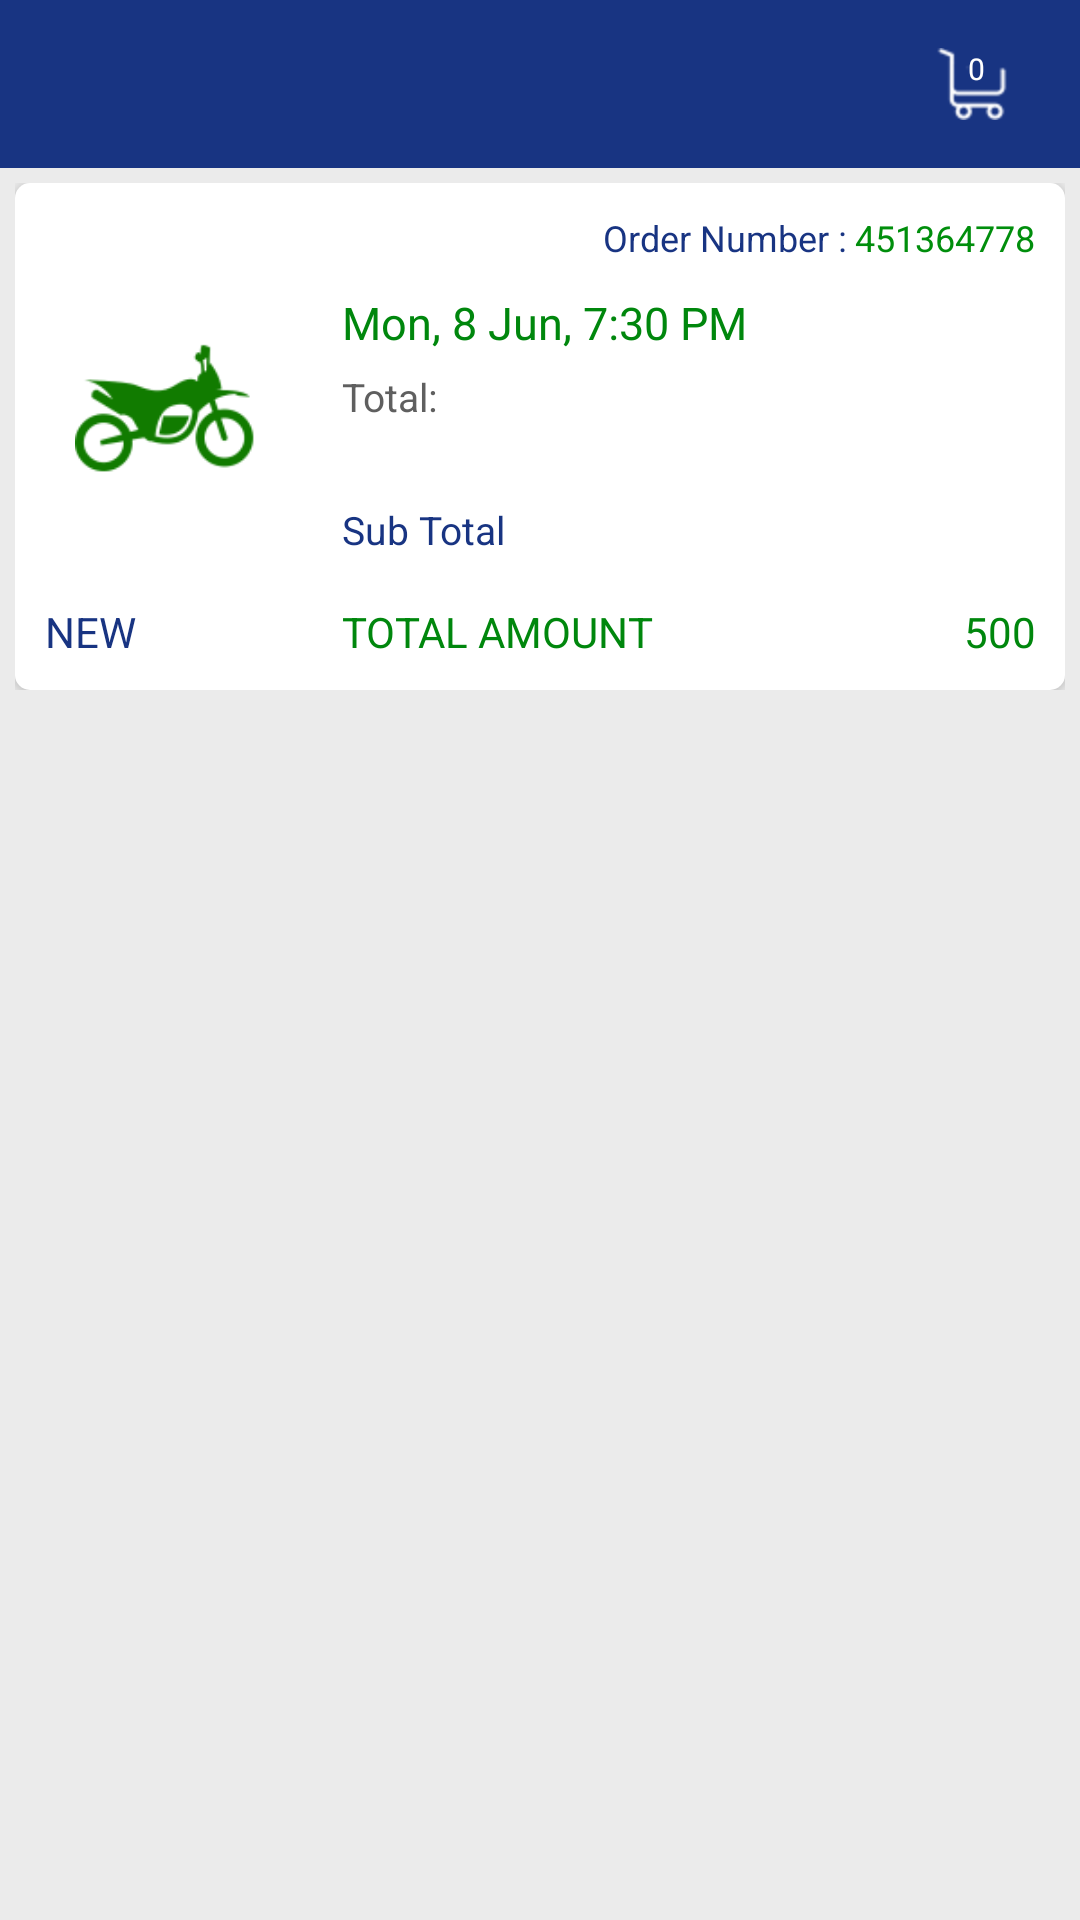

Point at icon controls on the screen. Image size 1080 x 1920, points as [x,y].
bike: [164,408]
cart: [972,84]
